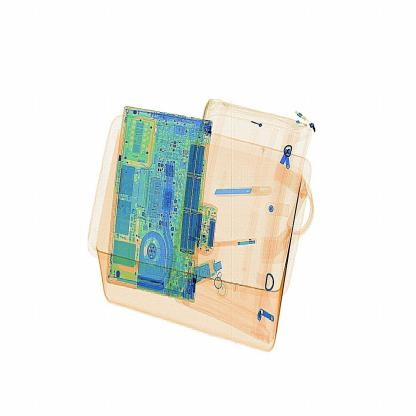pliers: (212, 183, 279, 209)
